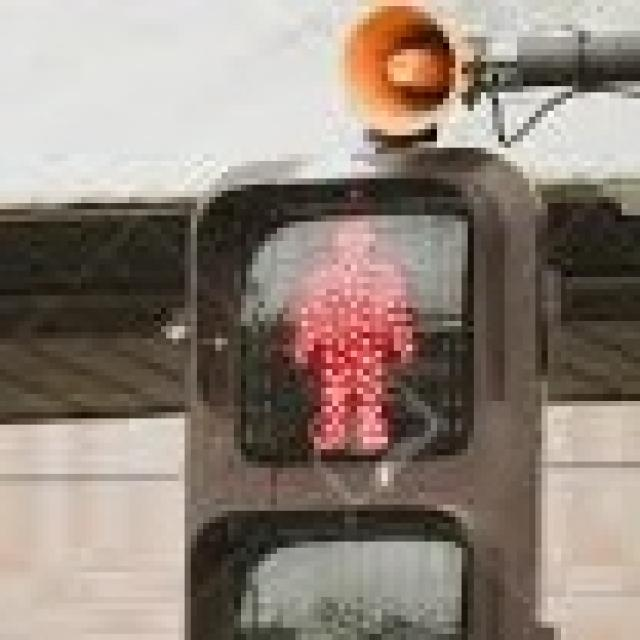red-crossing: (258, 196, 424, 462)
